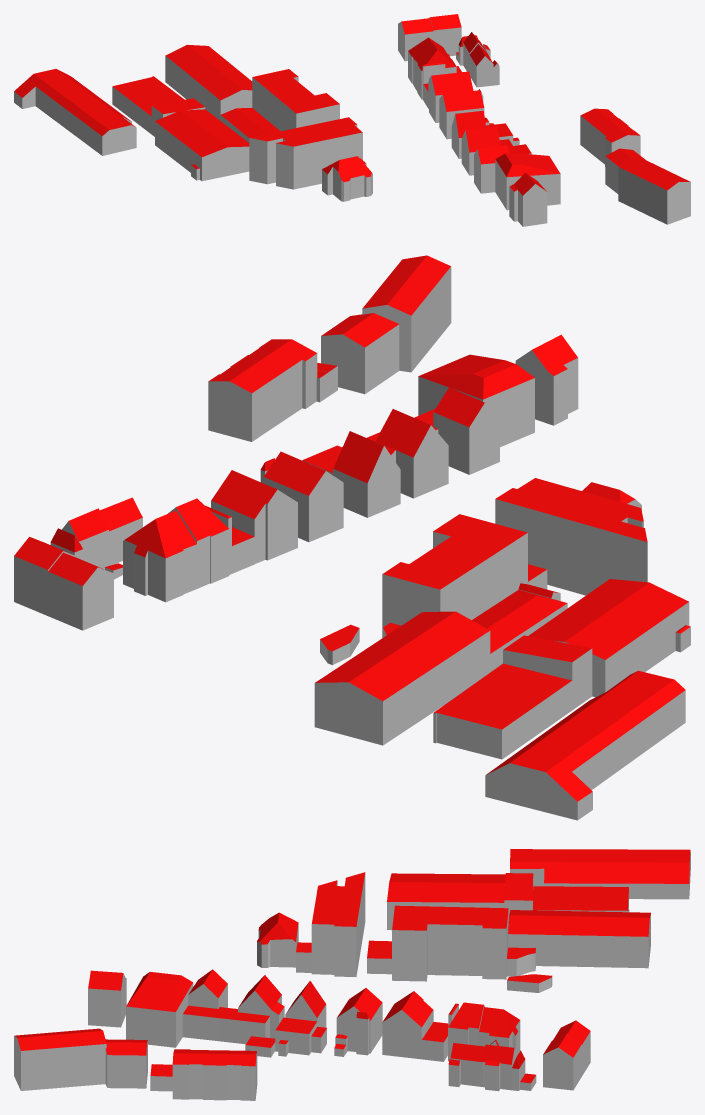
3 views of the same model, one above another, from view 1: azimuth 30°, elevation 25°; view 2: azimuth 150°, elevation 25°; view 3: azimuth 270°, elevation 25° (orthographic). The views are drawn at different scales.
Bounding box in the file's own units: 158 × 16.26 × 194.
